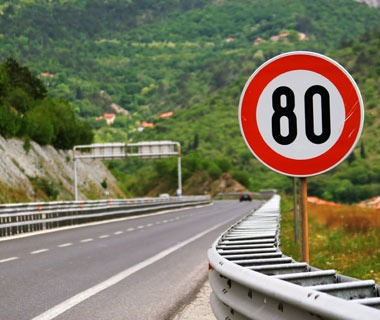Speed_limit_80km: (237, 49, 363, 174)
